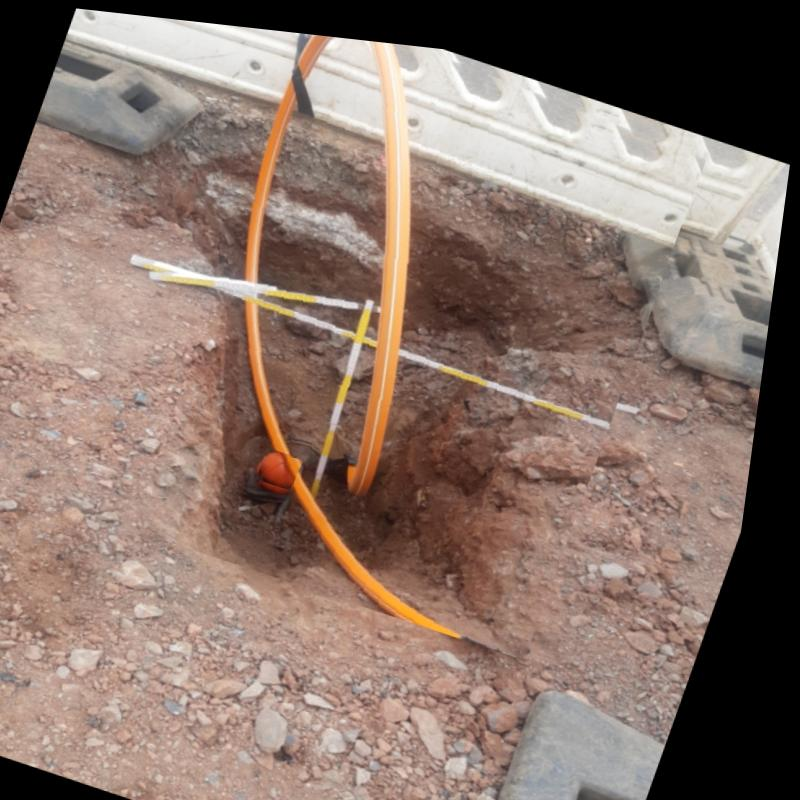Kugelmarker: (271, 446, 307, 479)
Orang-Speednetrohrchen: (253, 28, 537, 645), (369, 32, 414, 484)
